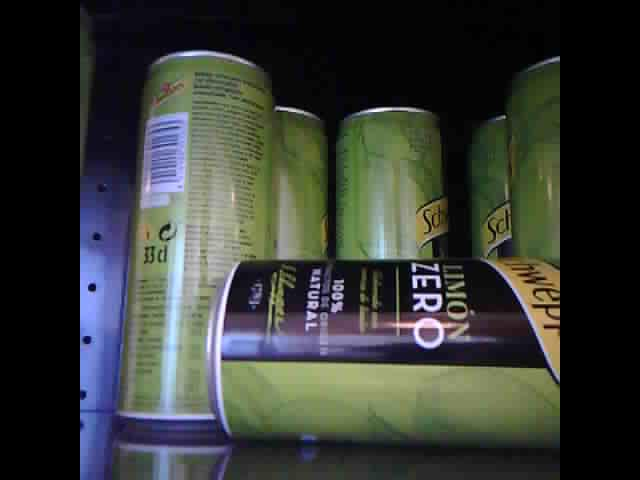schweppes: (200, 255, 559, 450), (115, 46, 270, 420), (338, 93, 451, 265), (257, 85, 328, 269), (505, 46, 559, 257), (462, 101, 515, 266)
